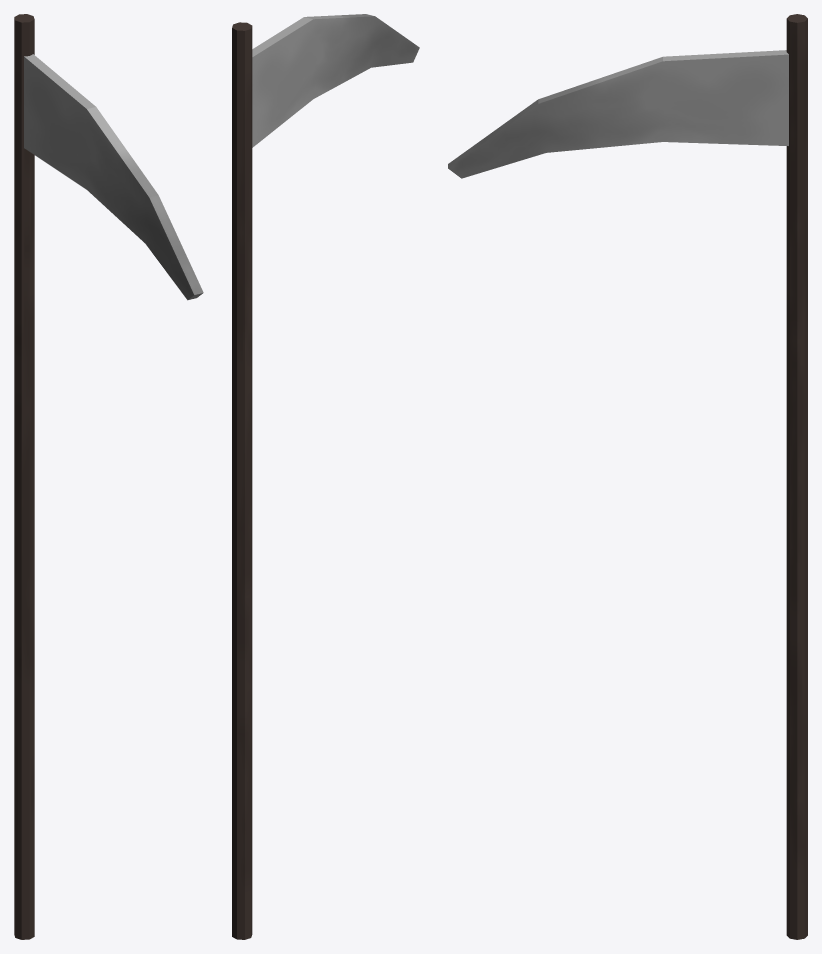
The model's file is scythe.fbx.
3 views of the same model, side by side, from view 1: azimuth 30°, elevation 25°; view 2: azimuth 150°, elevation 25°; view 3: azimuth 270°, elevation 25° (orthographic).
Parts seen in each view (by area): view 1: Handle; view 2: Handle; view 3: Handle.
Part boxes in pixels (left/top/right/bottom): Handle: left=14, top=14, right=203, bottom=939; Handle: left=232, top=14, right=419, bottom=939; Handle: left=448, top=14, right=807, bottom=939.
Size of the model in its own units: 3.89 by 186 by 66.29.
